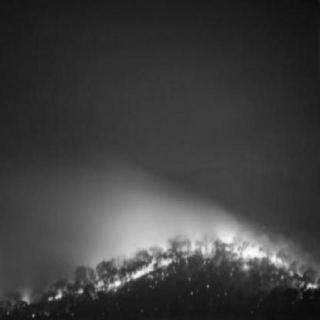Fire: (20, 234, 316, 308)
Smoke: (9, 22, 302, 232)
